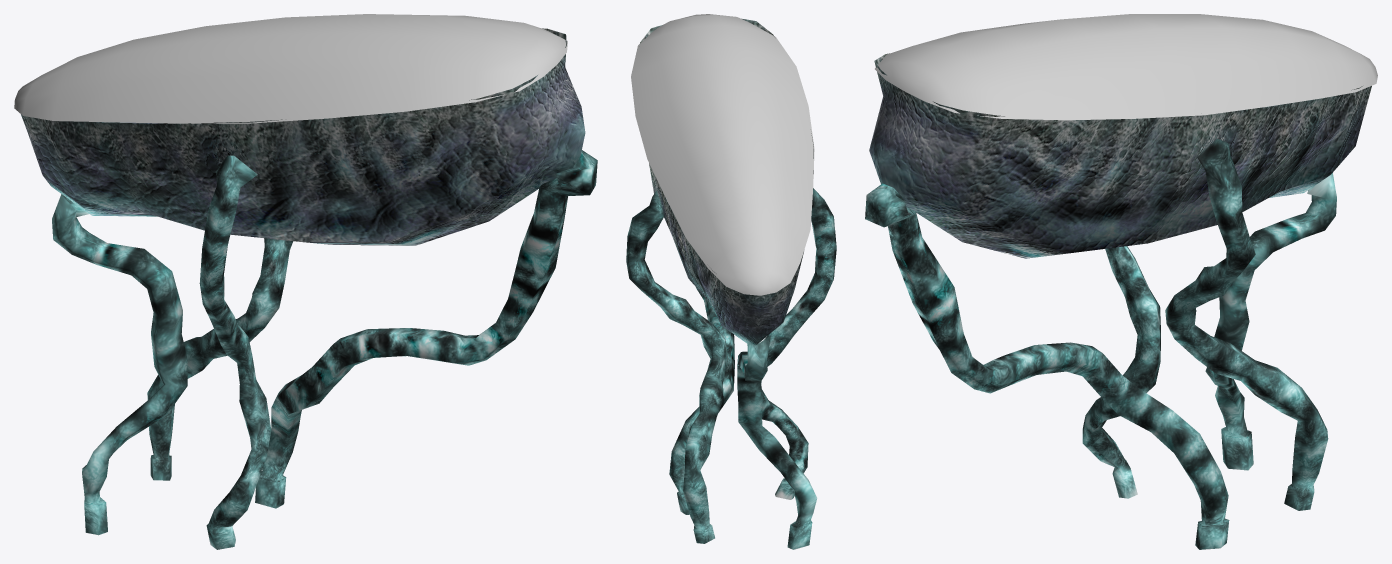
The model's file is GreenCocoon.fbx.
3 views of the same model, side by side, from view 1: azimuth 30°, elevation 25°; view 2: azimuth 150°, elevation 25°; view 3: azimuth 270°, elevation 25° (orthographic). The views are drawn at different scales.
Parts seen in each view (by area): view 1: Cocoon, Lid; view 2: Lid, Cocoon; view 3: Cocoon, Lid.
Part boxes in pixels (<box>): Cocoon: <box>21,28,597,549</box>; Lid: <box>14,14,567,123</box>; Lid: <box>631,14,814,295</box>; Cocoon: <box>626,18,836,549</box>; Cocoon: <box>865,53,1371,549</box>; Lid: <box>875,14,1377,120</box>.
Bounding box in the file's own units: 356 × 498 × 428.
